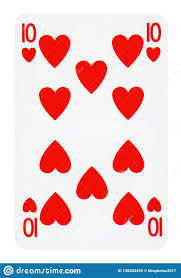ten of hearts: (14, 14, 171, 249)
